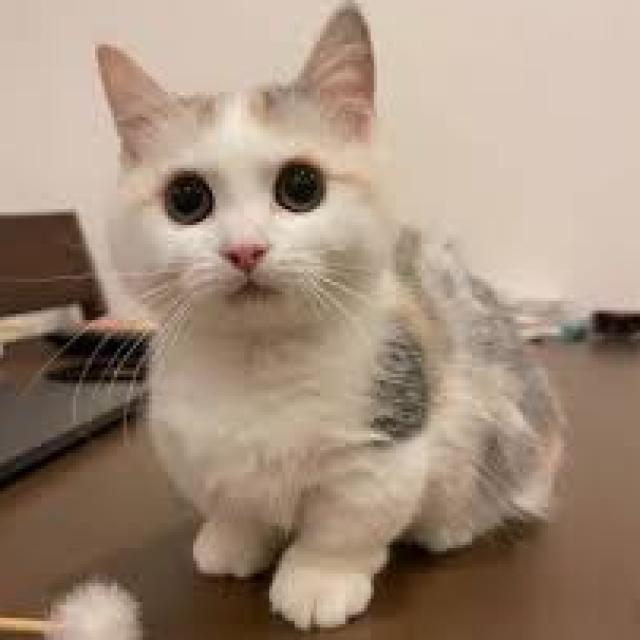Munchkin: (89, 0, 570, 634)
